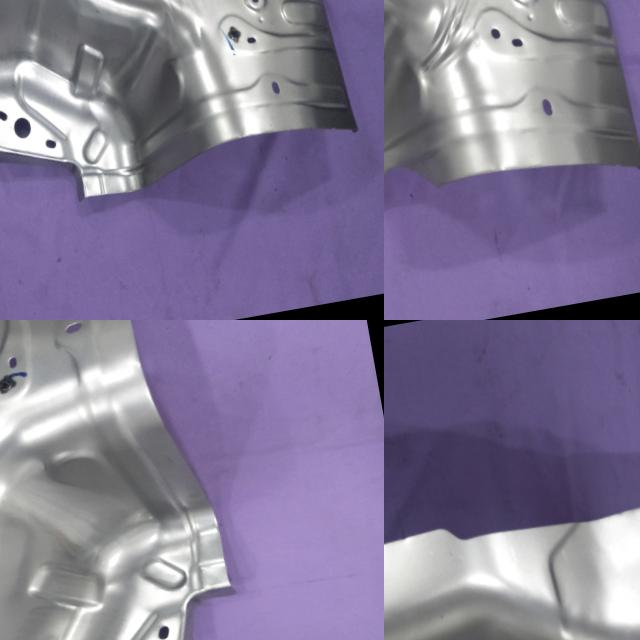Defect: (384, 141, 457, 217)
Healthy: (0, 320, 271, 640), (0, 0, 364, 228), (384, 456, 640, 640)
